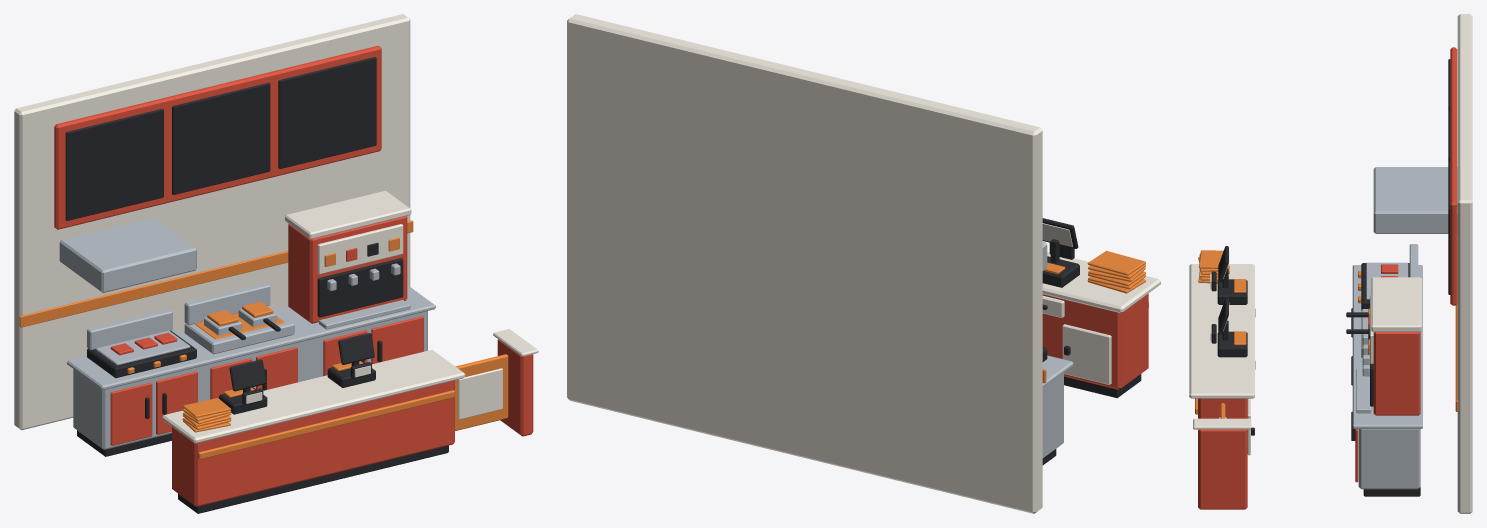
File: burger-restaurant-counter.glb
The picture shows the model from 3 angles, left to right: view 1: azimuth 30°, elevation 25°; view 2: azimuth 150°, elevation 25°; view 3: azimuth 270°, elevation 25°; orthographic projection. The views are drawn at different scales.
Parts seen in each view (by area): view 1: Back_Wall, Counter_Body, Menu_Frame, Menu_Panel_2, Menu_Panel_3, Menu_Panel_1, Counter_Top, Grill_Hood, Kitchen_Cabinet, Kitchen_Worktop, Drinks_Body, Back_Wall_Stripe (+26 smaller); view 2: Back_Wall, Counter_Body, Counter_Top, Counter_Cabinet_Door_1, Tray_Stack, Kitchen_Cabinet, Counter_Kick, Register_1_Base; view 3: Back_Wall, Counter_Top, Grill_Hood, Counter_EndPost, Drinks_Body, Kitchen_Cabinet, Drinks_Top, Kitchen_Worktop, Menu_Frame, Counter_Body, Counter_EndCap, Tray_Stack (+9 smaller).
Part boxes in pixels (x1,y1,x2,y2): Back_Wall: (14,14,410,430); Counter_Body: (172,380,454,506); Menu_Frame: (54,45,381,229); Menu_Panel_2: (172,82,270,194); Menu_Panel_3: (278,56,376,168); Menu_Panel_1: (65,108,163,220); Counter_Top: (162,349,465,443); Grill_Hood: (59,217,196,292); Kitchen_Cabinet: (73,311,427,449); Kitchen_Worktop: (67,285,435,390); Drinks_Body: (288,216,407,323); Back_Wall_Stripe: (19,220,413,327); Back_Wall: (567,14,1042,513); Counter_Body: (1042,293,1148,389); Counter_Top: (1042,252,1160,313); Counter_Cabinet_Door_1: (1062,324,1111,384); Tray_Stack: (1087,251,1145,293); Kitchen_Cabinet: (1042,373,1063,458); Counter_Kick: (1064,374,1141,398); Register_1_Base: (1042,256,1079,287); Back_Wall: (1457,14,1472,513); Counter_Top: (1189,264,1254,398); Grill_Hood: (1373,167,1457,233); Counter_EndPost: (1198,429,1247,509); Drinks_Body: (1373,332,1420,415); Kitchen_Cabinet: (1358,429,1420,489); Drinks_Top: (1371,277,1421,331); Kitchen_Worktop: (1352,265,1422,428); Menu_Frame: (1450,47,1457,305); Counter_Body: (1198,398,1247,418); Counter_EndCap: (1193,418,1251,429); Tray_Stack: (1198,250,1229,283).
Bounding box in the file's own units: 18.1 × 14 × 11.45.
